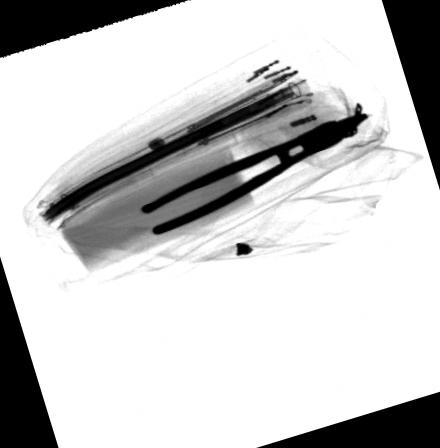Pliers: (136, 111, 372, 235)
